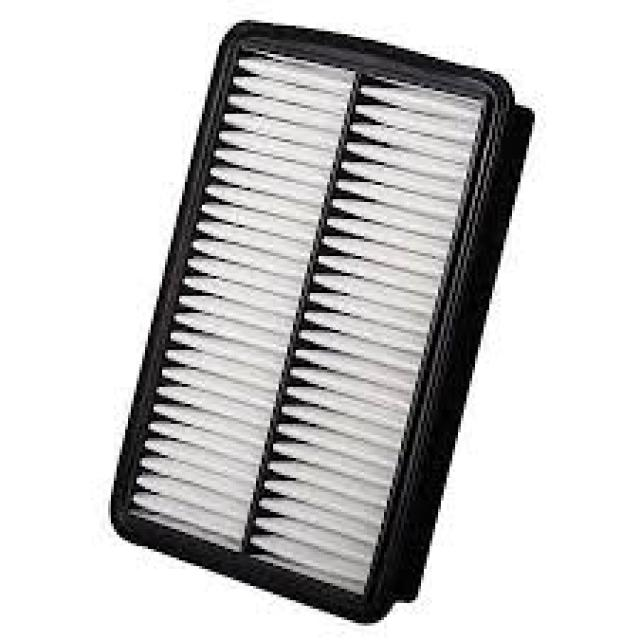air_filter: (102, 21, 534, 628)
